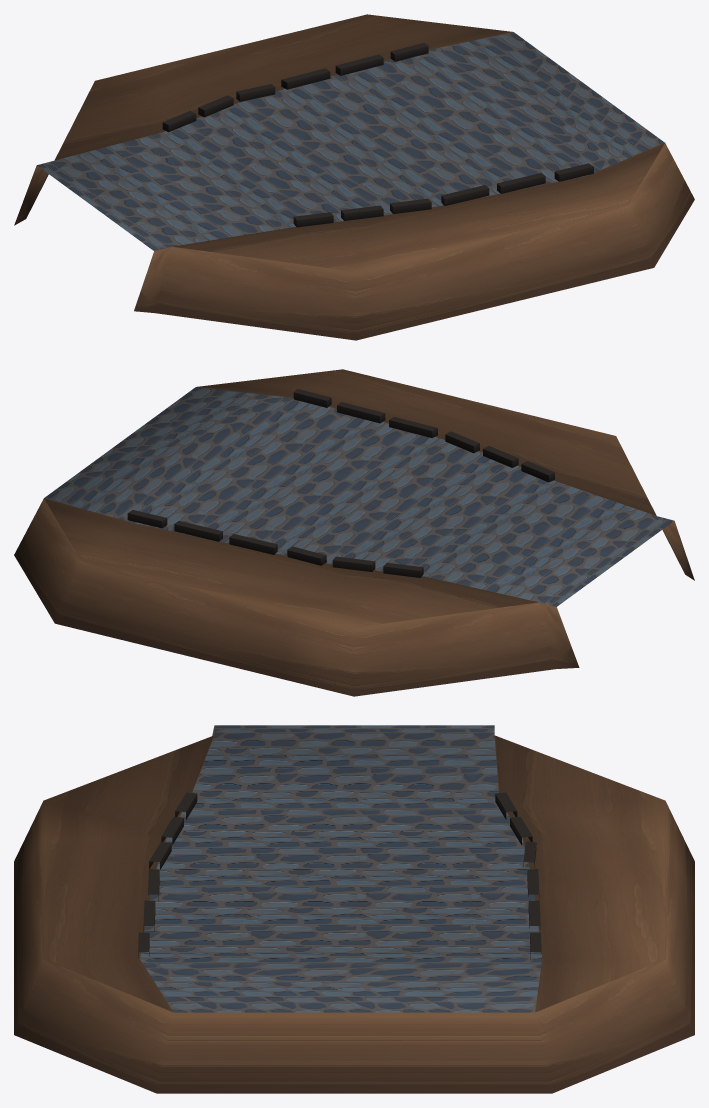
Rendered from Main_Platform_top.fbx.
3 views of the same model, one above another, from view 1: azimuth 30°, elevation 25°; view 2: azimuth 150°, elevation 25°; view 3: azimuth 270°, elevation 25° (orthographic). The views are drawn at different scales.
Visible parts, largest first — view 1: Top_platform4; view 2: Top_platform4; view 3: Top_platform4.
Part boxes in pixels (x1,y1,x2,y2): Top_platform4: (14, 14, 694, 340); Top_platform4: (14, 369, 694, 696); Top_platform4: (14, 725, 694, 1093).
Size of the model in its own units: 3503 by 405 by 3212.
